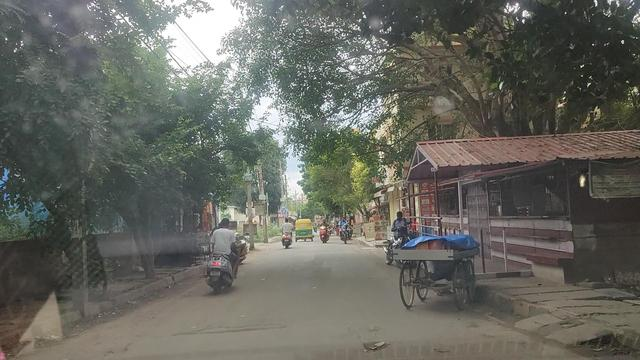LMV: (209, 220, 237, 297), (277, 219, 292, 249)
RoadDamages: (189, 319, 279, 340)
